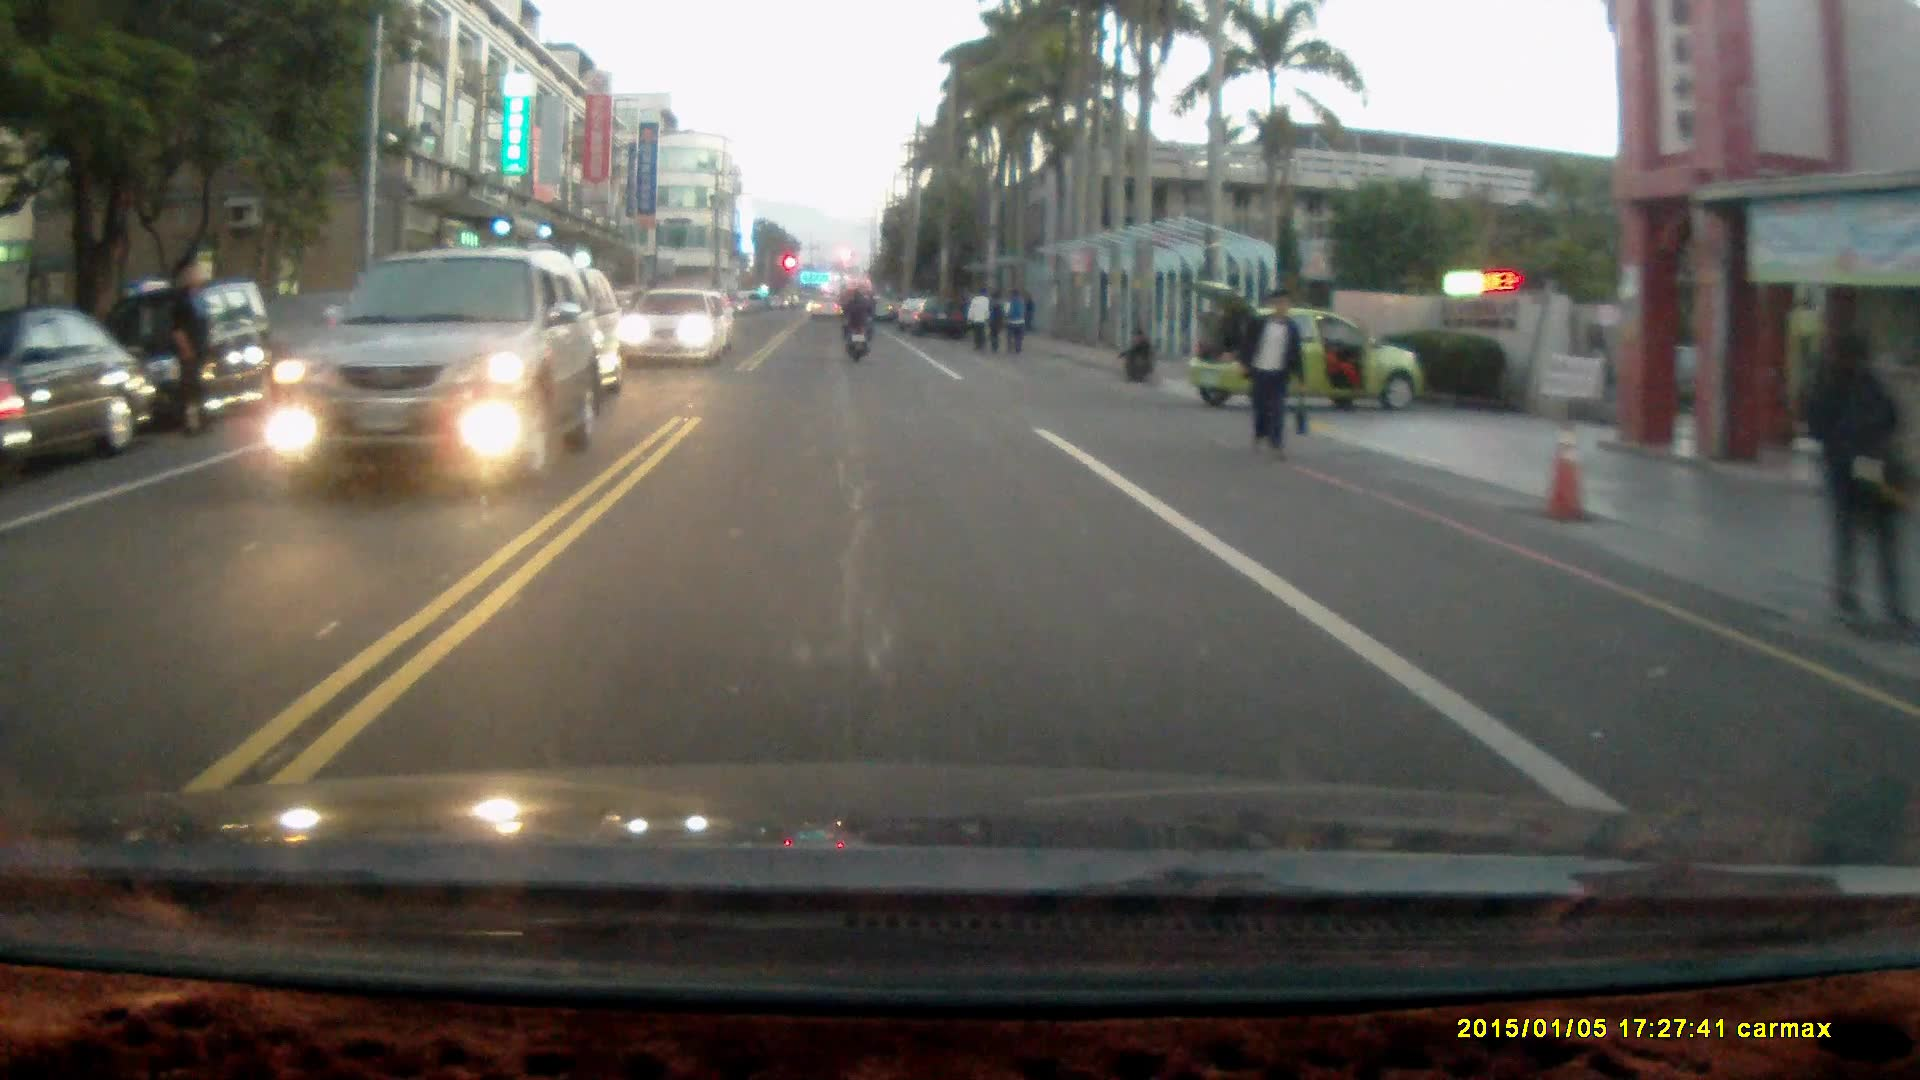pedestrian: (1801, 318, 1913, 645), (1235, 285, 1306, 464), (1117, 323, 1152, 382), (1001, 283, 1027, 355), (970, 289, 993, 361), (986, 289, 1007, 356)
rider: (837, 285, 876, 363)
vehicle: (269, 247, 602, 481), (1187, 275, 1423, 416), (106, 275, 275, 431), (624, 288, 735, 368), (916, 294, 970, 339)
